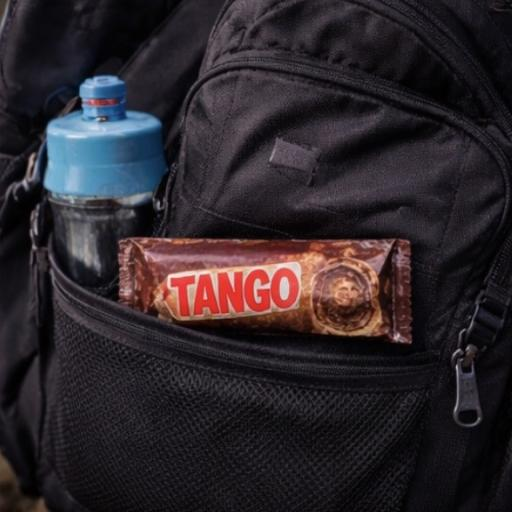tango: (86, 185, 450, 437)
